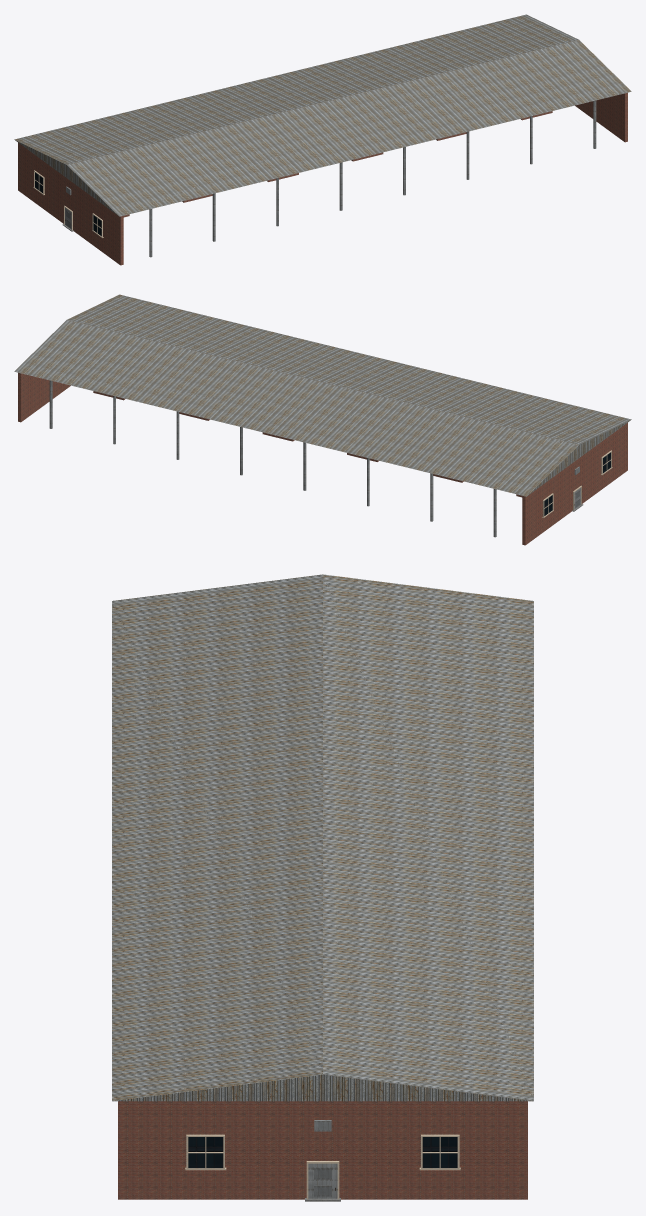
File: market-hall-b_lod0.gltf
3 views of the same model, one above another, from view 1: azimuth 30°, elevation 25°; view 2: azimuth 150°, elevation 25°; view 3: azimuth 270°, elevation 25° (orthographic). The views are drawn at different scales.
Visible parts, largest first — view 1: market-hall-b_roof, market-hall-b_endwalls, market-hall-b_columns, market-hall-b__stalls; view 2: market-hall-b_roof, market-hall-b_endwalls, market-hall-b_columns, market-hall-b__stalls; view 3: market-hall-b_roof, market-hall-b_endwalls, market-hall-b_fen_07-glass-curtain-blue_5_t, market-hall-b_fen_04-limestone_0, market-hall-b_fen_14-steel-panel_1.
Part boxes in pixels (bbox=[...]): market-hall-b_roof: bbox=[14, 14, 631, 216]; market-hall-b_endwalls: bbox=[18, 92, 627, 265]; market-hall-b_columns: bbox=[149, 100, 596, 257]; market-hall-b__stalls: bbox=[123, 111, 552, 217]; market-hall-b_roof: bbox=[14, 294, 631, 496]; market-hall-b_endwalls: bbox=[18, 372, 627, 545]; market-hall-b_columns: bbox=[49, 380, 496, 537]; market-hall-b__stalls: bbox=[93, 391, 522, 497]; market-hall-b_roof: bbox=[112, 574, 533, 1101]; market-hall-b_endwalls: bbox=[118, 1101, 527, 1199]; market-hall-b_fen_07-glass-curtain-blue_5_t: bbox=[188, 1137, 457, 1168]; market-hall-b_fen_04-limestone_0: bbox=[185, 1134, 460, 1199]; market-hall-b_fen_14-steel-panel_1: bbox=[308, 1120, 337, 1198].
Size of the model in its own units: 101 by 12.02 by 36.
